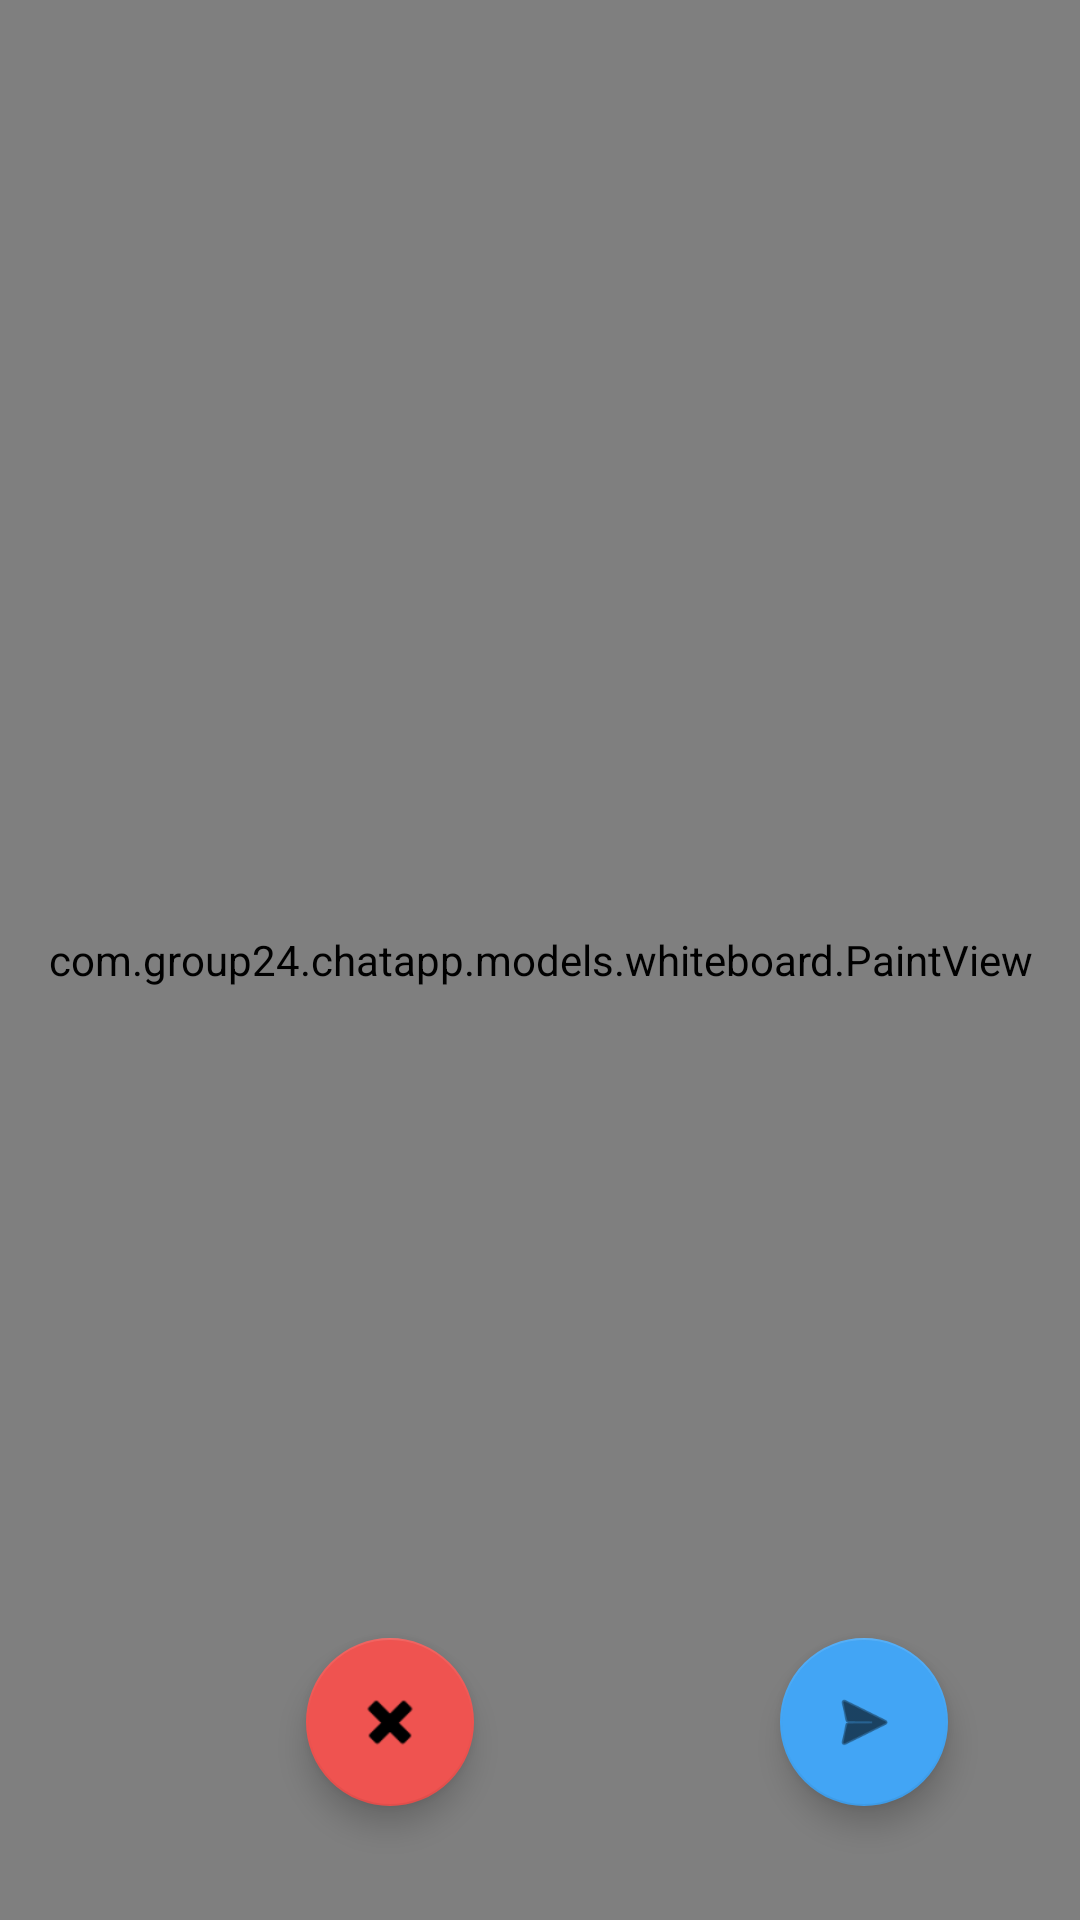

Icon click points for this 1080*1920 phone screenshot, format [x,y]:
delete: [390,1722]
send: [864,1722]
